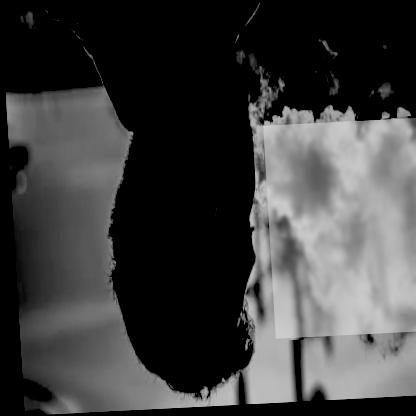smoke: (261, 122, 416, 342)
